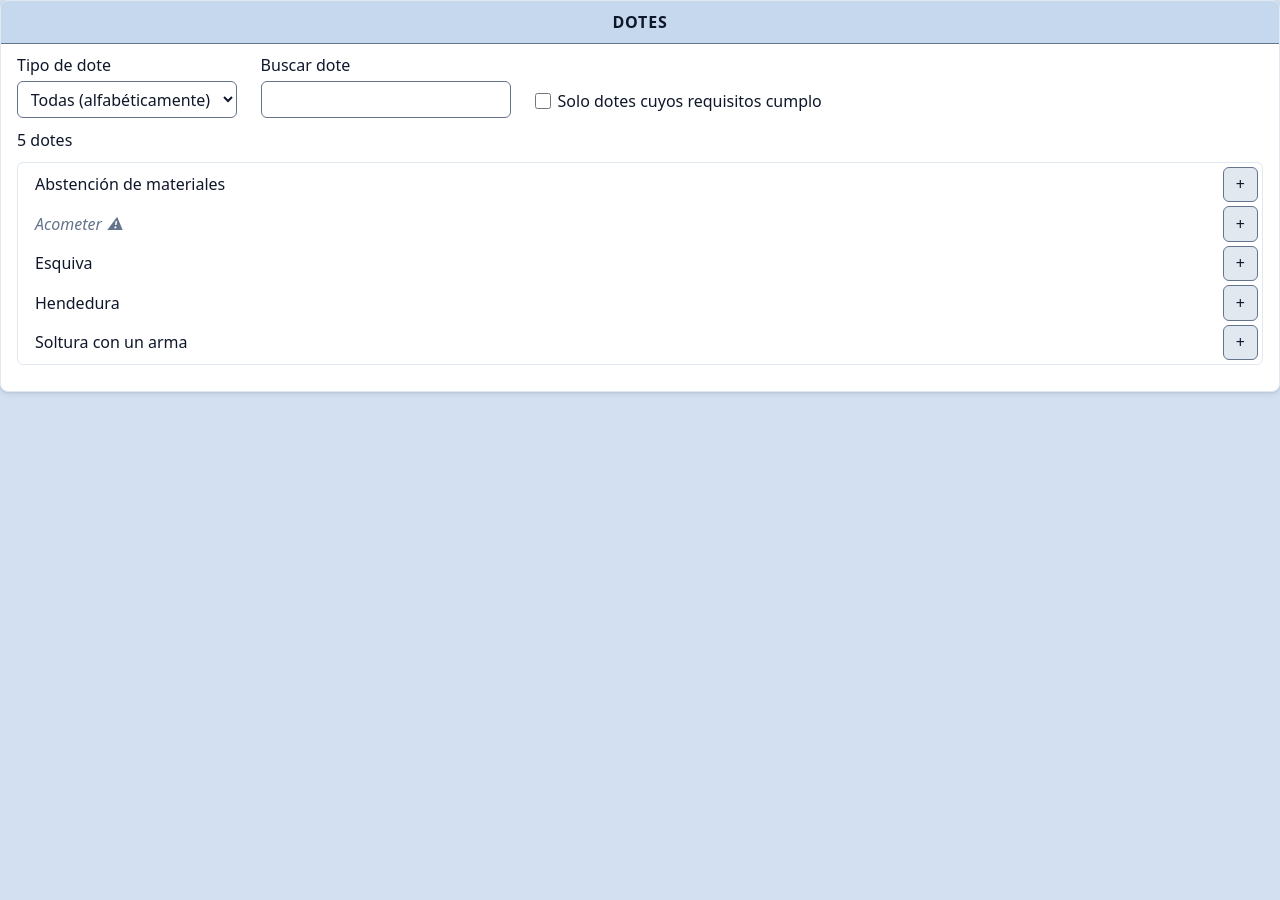
Scenario: FeatsSection › gives selected feats the same tooltip and details dialog
This screenshot has width=1280, height=900.
Click the button named "Añadir Esquiva" at point(1240, 264), box [1223,246,1258,281]
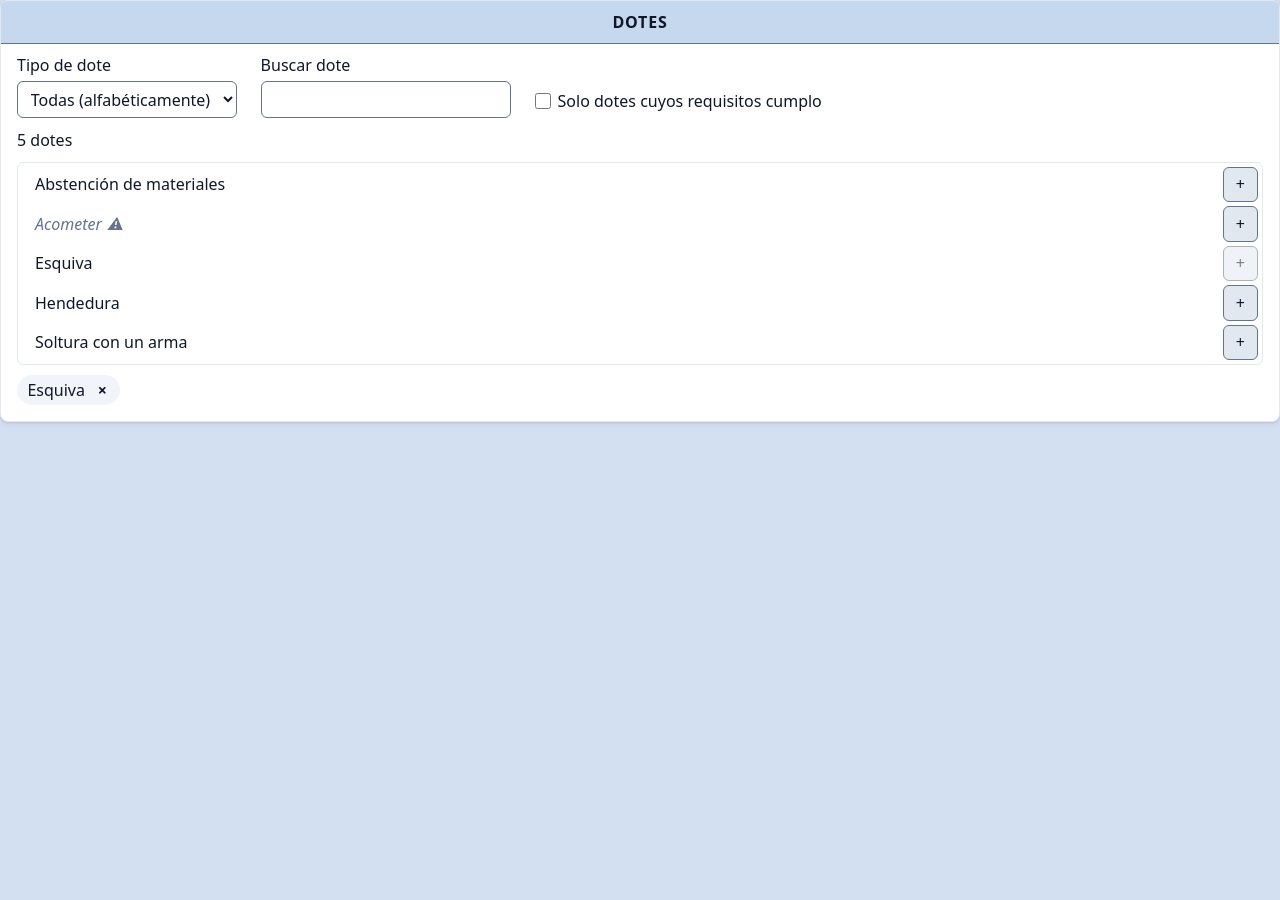
Click the button with aria-label "Ver detalles de Esquiva" at point(56, 390), box [25,378,87,402]
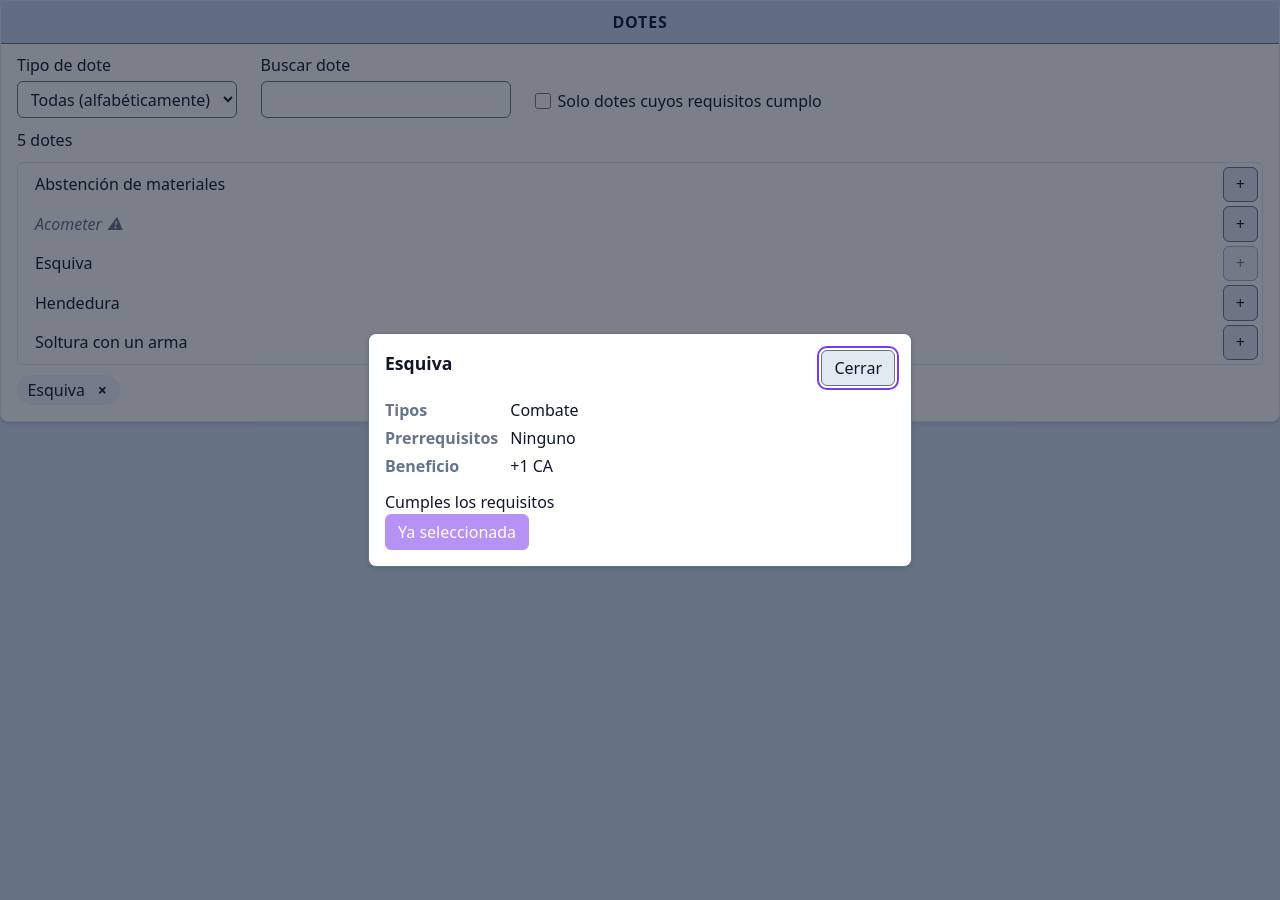
Expected: the text "+1 CA" is shown, [510,455,553,477]
Expected: the button "Ya seleccionada" is disabled, [385,514,529,550]
